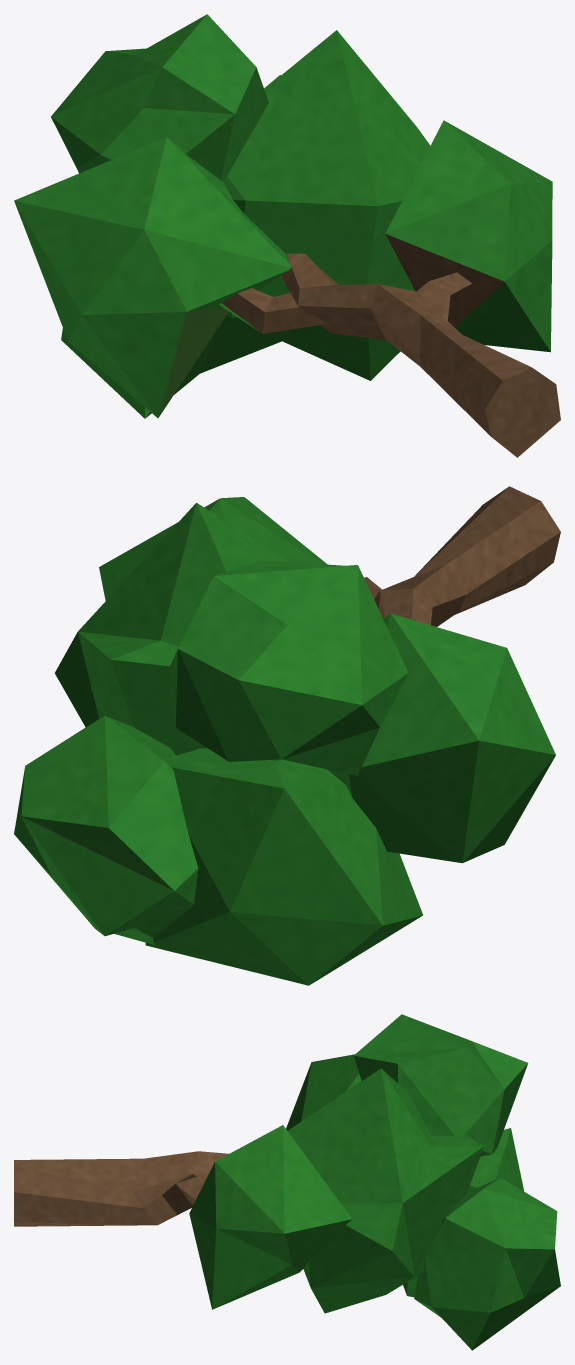
The model's file is all_share_tree_4.FBX.
The picture shows the model from 3 angles, top to bottom: view 1: azimuth 30°, elevation 25°; view 2: azimuth 150°, elevation 25°; view 3: azimuth 270°, elevation 25°; orthographic projection. The views are drawn at different scales.
Parts seen in each view (by area): view 1: tree_5; view 2: tree_5; view 3: tree_5.
Part boxes in pixels (bbox=[...]): tree_5: bbox=[14, 14, 560, 457]; tree_5: bbox=[14, 486, 560, 985]; tree_5: bbox=[14, 1014, 560, 1350].
Bounding box in the file's own units: 109 × 83.01 × 152.
